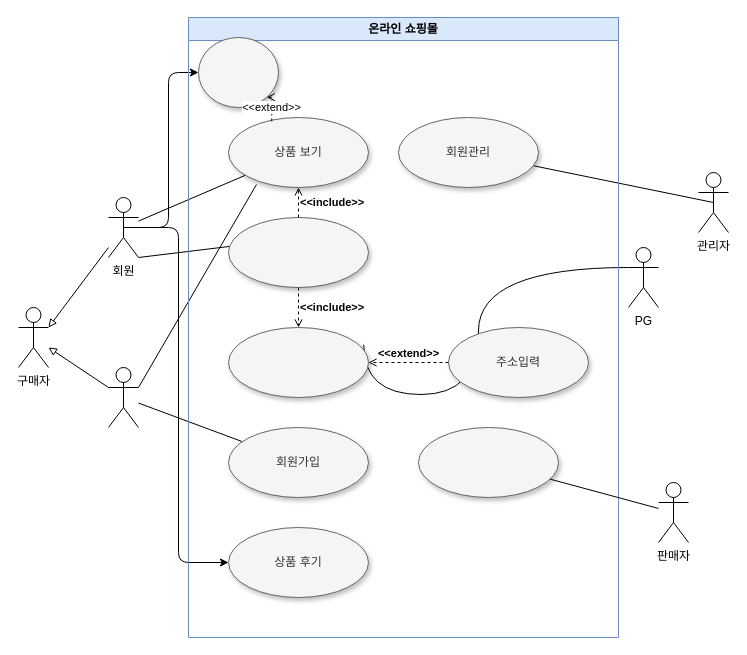
Image size: 747x655. Some labels were removed from this diagram. Here are the shapes that lost their labels. From the top down, the centre of each, then its label:
At pixel 239 73: "상품찜".
At pixel 299 253: "구매".
At pixel 299 363: "결제".
At pixel 123 397: "비회원".
At pixel 489 463: "상품등록".
